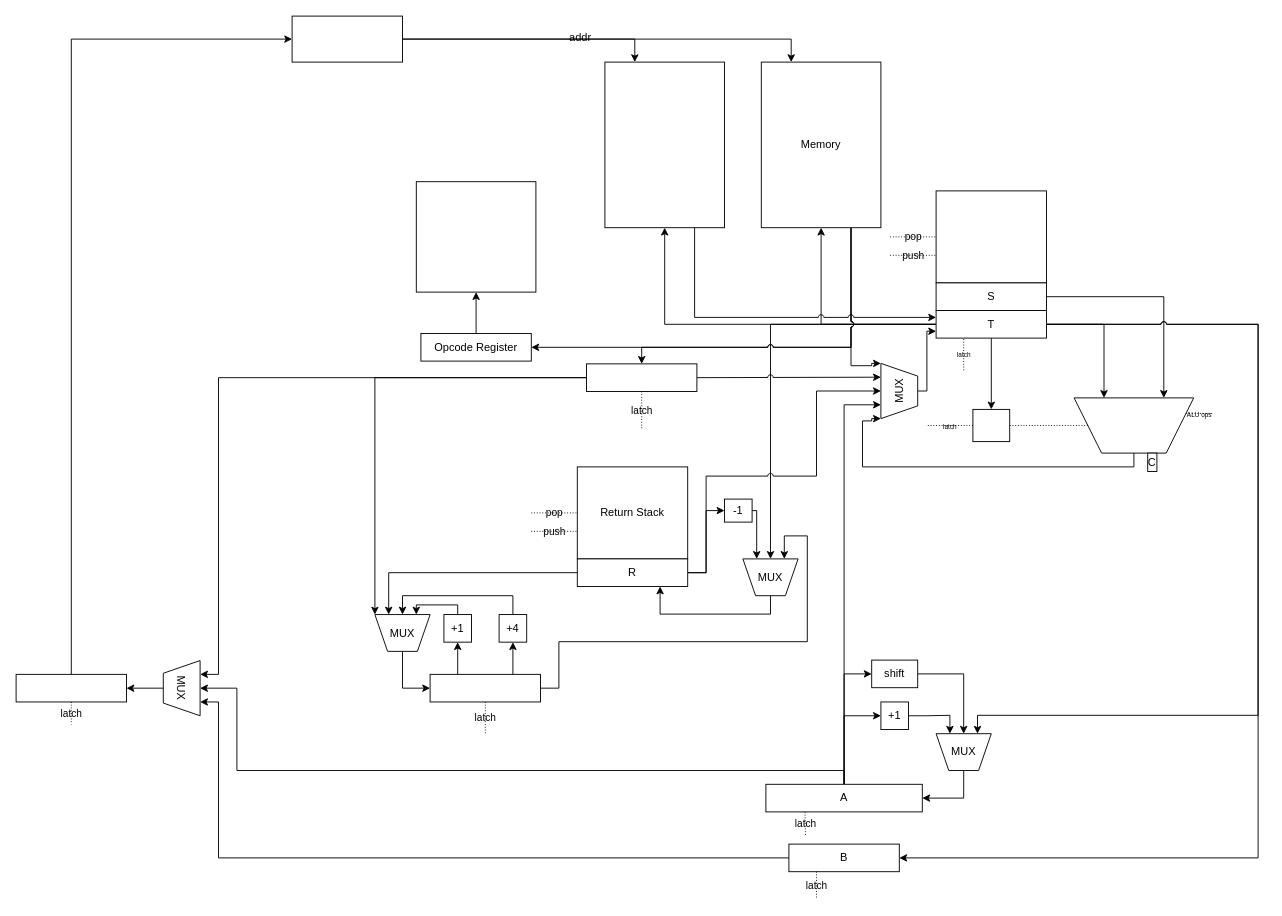
Some shapes in this 1282 by 916 pixel diagram are drawn without their labels. The shapes that lost their labels are listed below. From the top down, each one's box as (x1, y1, x2, y2) in pixels, then its label:
(291, 15, 402, 62): Decoder
(604, 61, 724, 228): IO Unit
(415, 181, 536, 292): Control Unit
(935, 190, 1046, 283): Data Stack
(586, 363, 697, 391): Operand Register
(972, 408, 1010, 442): EAM
(1073, 397, 1194, 453): ALU
(15, 673, 126, 702): AR
(429, 673, 540, 702): PC
